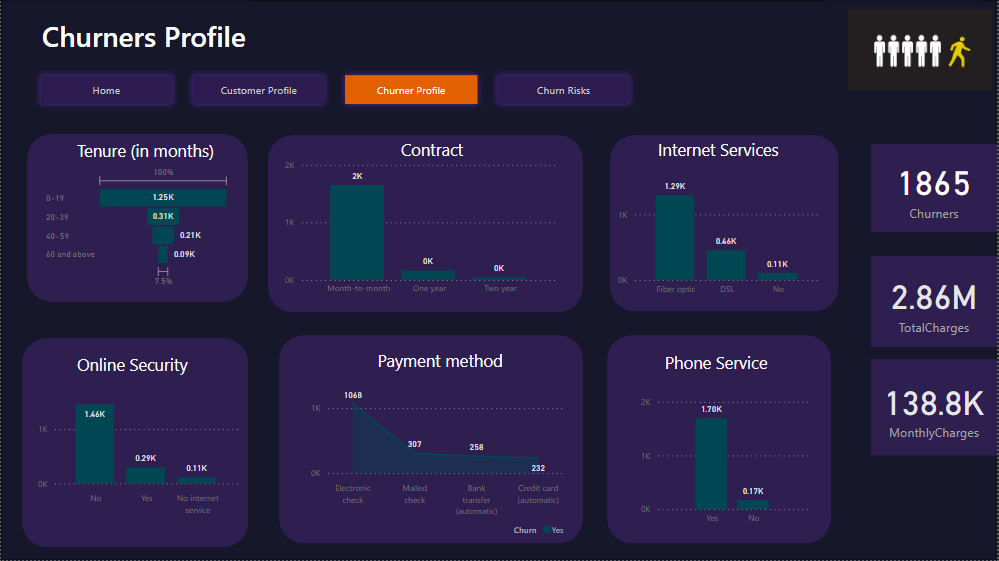

The dashboard page shown, as its layout file describes it:
{"tool":"powerbi","page":{"name":"Churner Profile","canvas":[1280,720],"ordinal":2},"visuals":[{"type":"shape","box":[357.1,431.2,391.4,267.8],"z":0},{"type":"textbox","title":"Churners Profile","box":[27.5,22,313.1,57.7],"z":1000},{"type":"shape","box":[783.5,173.6,293.6,227.3],"z":2000},{"type":"shape","box":[343.3,173,405.2,228],"z":3000},{"type":"shape","box":[27.5,434.3,291.2,269.2],"z":4000},{"type":"shape","box":[33,171.7,284.3,215.6],"z":5000},{"type":"clusteredColumnChart","fields":{"Category":["Telco-Customer-Churn.InternetService"],"Y":["CountNonNull(Telco-Customer-Churn.InternetService)"]},"box":[788.3,217,269.2,171.7],"z":6000},{"type":"textbox","title":"Online Security","box":[92,453.2,162.1,33],"z":7000},{"type":"funnel","fields":{"Category":["Telco-Customer-Churn.TenureMonths"],"Y":["CountNonNull(Telco-Customer-Churn.TenureMonths)"]},"box":[52.2,208.8,247.2,164.8],"z":8000},{"type":"textbox","title":"Tenure (in months)","box":[92,178.5,192.3,27.5],"z":9000},{"type":"columnChart","fields":{"Category":["Telco-Customer-Churn.Contract"],"Y":["CountNonNull(Telco-Customer-Churn.Contract)"]},"box":[359.8,197.8,359.8,190.9],"z":10000},{"type":"card","fields":{"Values":["Sum(Telco-Customer-Churn.TotalCharges)"]},"box":[1117.9,329.6,162.1,116.7],"z":11000},{"type":"card","fields":{"Values":["Sum(Telco-Customer-Churn.MonthlyCharges)"]},"box":[1118.1,461.6,162.4,124.2],"z":12000},{"type":"areaChart","fields":{"Category":["Telco-Customer-Churn.PaymentMethod"],"Series":["Telco-Customer-Churn.Churn"],"Y":["CountNonNull(Telco-Customer-Churn.PaymentMethod)"]},"box":[372.2,469.7,361.2,229.4],"z":13000},{"type":"textbox","title":"Payment method","box":[472.4,449.1,185.4,37.1],"z":14000},{"type":"shape","box":[778.7,431.2,288.4,267.8],"z":15000},{"type":"columnChart","fields":{"Y":["CountNonNull(Telco-Customer-Churn.PhoneService)"],"Category":["Telco-Customer-Churn.PhoneService"]},"box":[817.2,502.7,225.2,181.3],"z":16000},{"type":"textbox","title":"Phone Service","box":[828.2,451.8,182.7,35.7],"z":17000},{"type":"textbox","title":"Contract","box":[494.4,177.2,118.1,35.7],"z":18000},{"type":"card","fields":{"Values":["CountNonNull(Telco-Customer-Churn.Churn)"]},"box":[1117.9,185.4,162.1,112.6],"z":19000},{"type":"columnChart","fields":{"Category":["Telco-Customer-Churn.OnlineSecurity"],"Y":["CountNonNull(Telco-Customer-Churn.OnlineSecurity)"]},"box":[42.6,502.7,267.8,167.6],"z":20000},{"type":"textbox","title":"Internet Services","box":[839.1,177.2,179.9,28.8],"z":21000},{"type":"pageNavigator","box":[42.6,89.3,774.6,53.6],"z":22000},{"type":"image","box":[1083.6,0,196.4,129.1],"z":23000}]}

Visuals, with their boxes in screenshot pixels (x1, y1, x2, y2), scaled from the page's 1280x720 canvas onto the 999x561 screenshot:
shape: [279, 336, 584, 545]
"Churners Profile" textbox: [21, 17, 266, 62]
shape: [611, 135, 841, 312]
shape: [268, 135, 584, 312]
shape: [21, 338, 249, 548]
shape: [26, 134, 248, 302]
clusteredColumnChart - Telco-Customer-Churn.InternetService x CountNonNull(Telco-Customer-Churn.InternetService): [615, 169, 825, 303]
"Online Security" textbox: [72, 353, 198, 379]
funnel - Telco-Customer-Churn.TenureMonths x CountNonNull(Telco-Customer-Churn.TenureMonths): [41, 163, 234, 291]
"Tenure (in months)" textbox: [72, 139, 222, 161]
columnChart - Telco-Customer-Churn.Contract x CountNonNull(Telco-Customer-Churn.Contract): [281, 154, 562, 303]
card - Sum(Telco-Customer-Churn.TotalCharges): [872, 257, 998, 348]
card - Sum(Telco-Customer-Churn.MonthlyCharges): [873, 360, 998, 456]
areaChart - Telco-Customer-Churn.PaymentMethod x Telco-Customer-Churn.Churn: [290, 366, 572, 545]
"Payment method" textbox: [369, 350, 513, 379]
shape: [608, 336, 833, 545]
columnChart - CountNonNull(Telco-Customer-Churn.PhoneService) x Telco-Customer-Churn.PhoneService: [638, 392, 814, 533]
"Phone Service" textbox: [646, 352, 789, 380]
"Contract" textbox: [386, 138, 478, 166]
card - CountNonNull(Telco-Customer-Churn.Churn): [872, 144, 998, 232]
columnChart - Telco-Customer-Churn.OnlineSecurity x CountNonNull(Telco-Customer-Churn.OnlineSecurity): [33, 392, 242, 522]
"Internet Services" textbox: [655, 138, 795, 161]
pageNavigator: [33, 70, 638, 111]
image: [846, 0, 998, 101]
